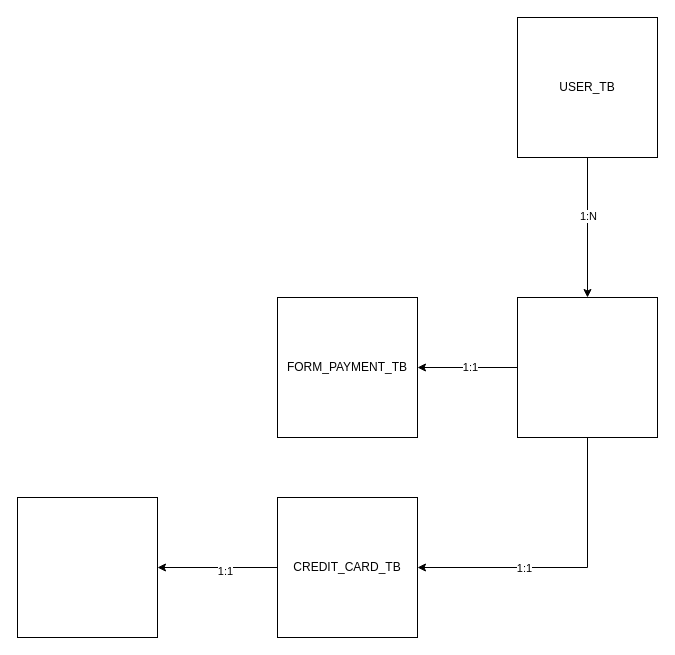
This 675x655 diagram has some shape labels left out. Each missing label, with the centre of its shape:
CUSTOMER_TB: [587,367]
FLAG_CARD_TB: [87,567]
